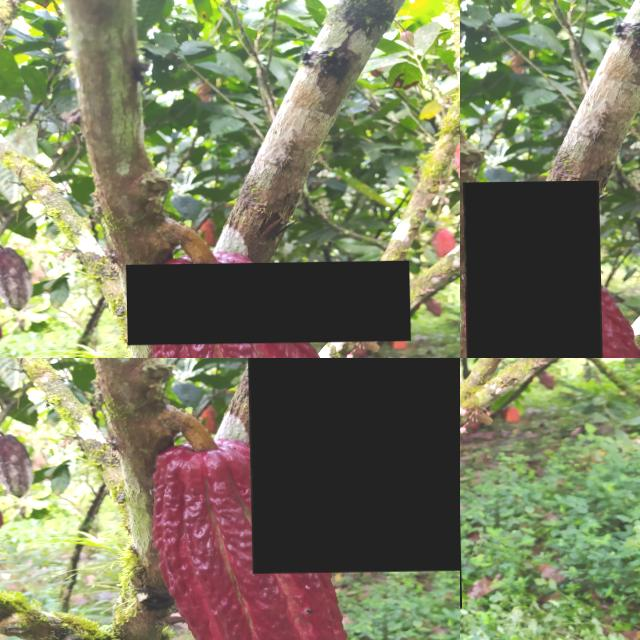Fitoftora: (245, 358, 460, 574), (461, 181, 601, 358)
Monilia: (125, 262, 409, 346)
Sana: (460, 0, 555, 89)
